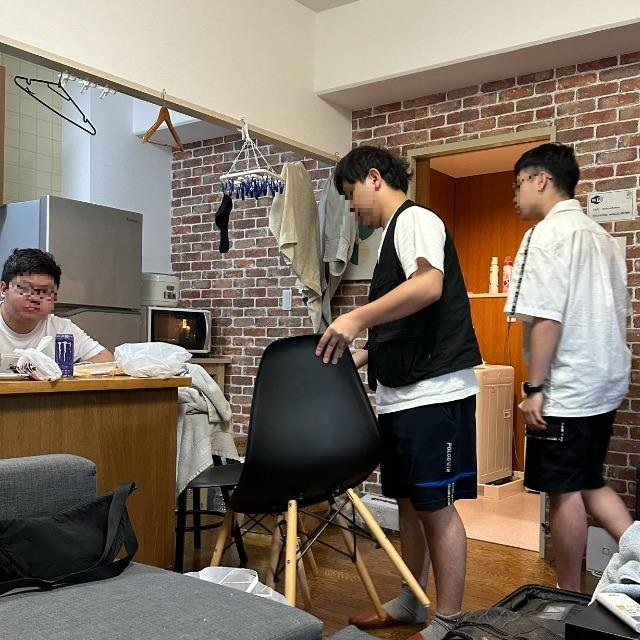NoHelmet: (330, 144, 407, 230), (512, 143, 583, 219), (2, 246, 67, 325)
